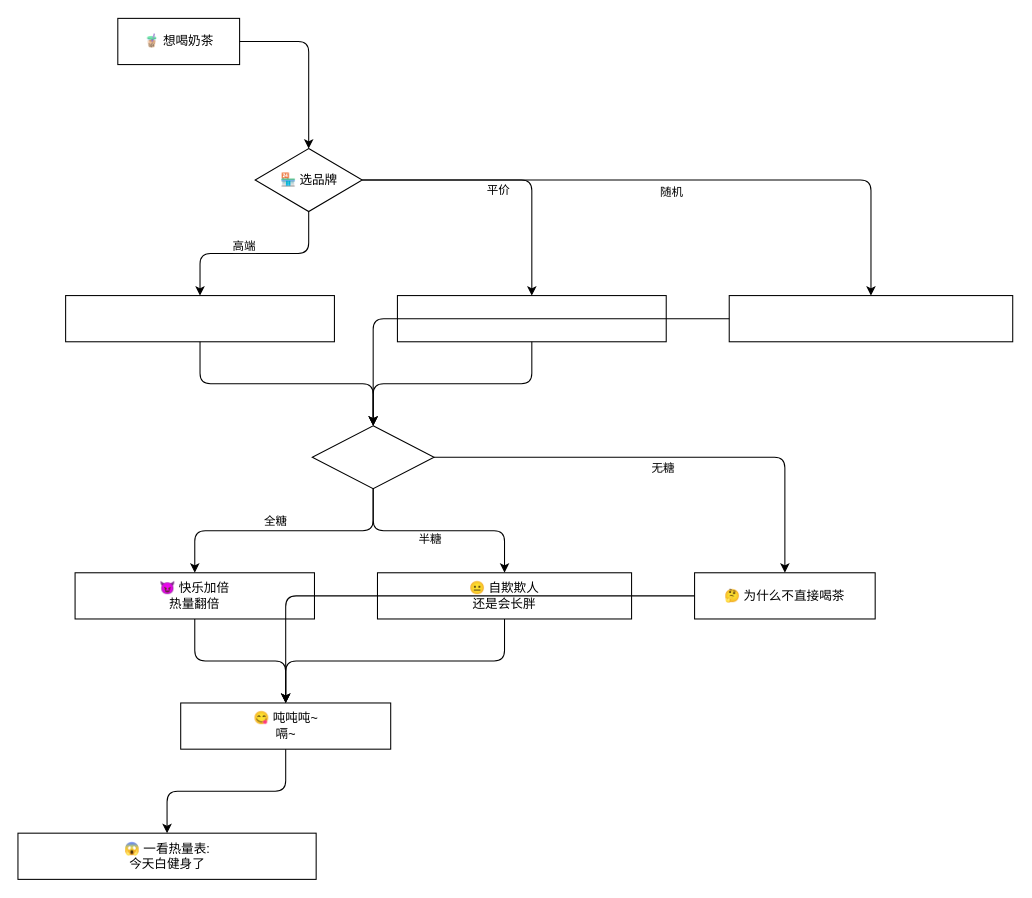
This 1032x898 diagram has some shape labels left out. Here are the shapes that lost their labels. From the top down, the centre of each, then its label:
the point at 199,318: 💰 喜茶/奈雪 30块一杯
the point at 531,318: 😊 蜜雪冰城 你爱我我爱你
the point at 870,318: 🎲 外卖软件 哪家优惠点哪家
the point at 372,457: 🍬 糖度选择
